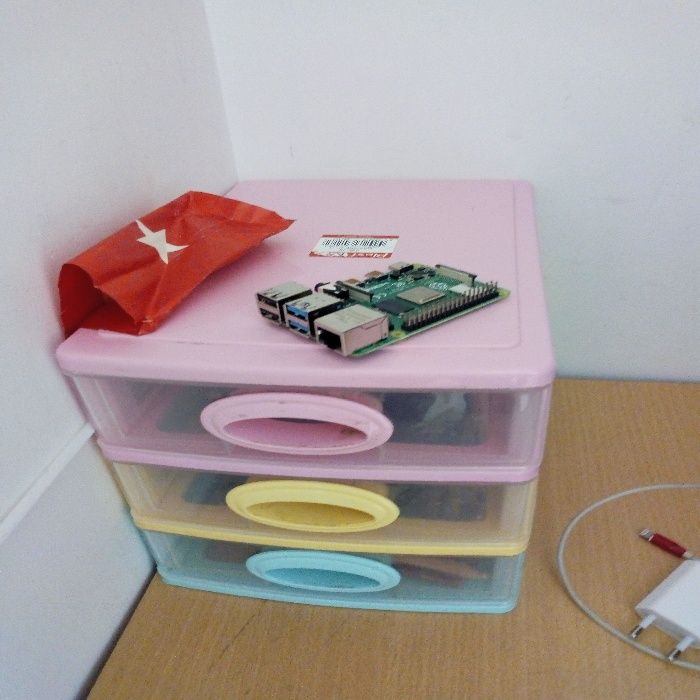raspberry: (230, 242, 513, 371)
